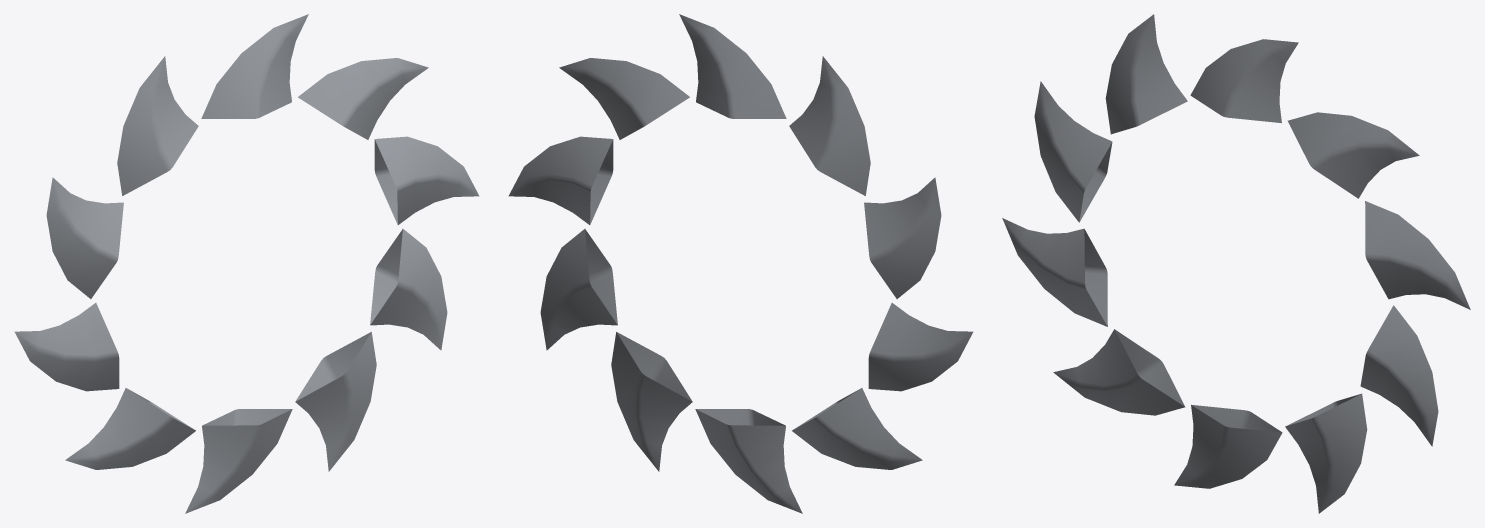
Rendered from Weapon_yuanju01_02.FBX.
3 views of the same model, side by side, from view 1: azimuth 30°, elevation 25°; view 2: azimuth 150°, elevation 25°; view 3: azimuth 330°, elevation 25° (orthographic).
Visible parts, largest first — view 1: Weapon_yuanju01_02; view 2: Weapon_yuanju01_02; view 3: Weapon_yuanju01_02.
Boxes of the visible parts, bbox=[...] form: Weapon_yuanju01_02: bbox=[14, 14, 479, 513]; Weapon_yuanju01_02: bbox=[508, 14, 973, 513]; Weapon_yuanju01_02: bbox=[1002, 14, 1470, 513].
Size of the model in its own units: 1.89 by 1.83 by 0.1529.
1 material, 1 textured.
